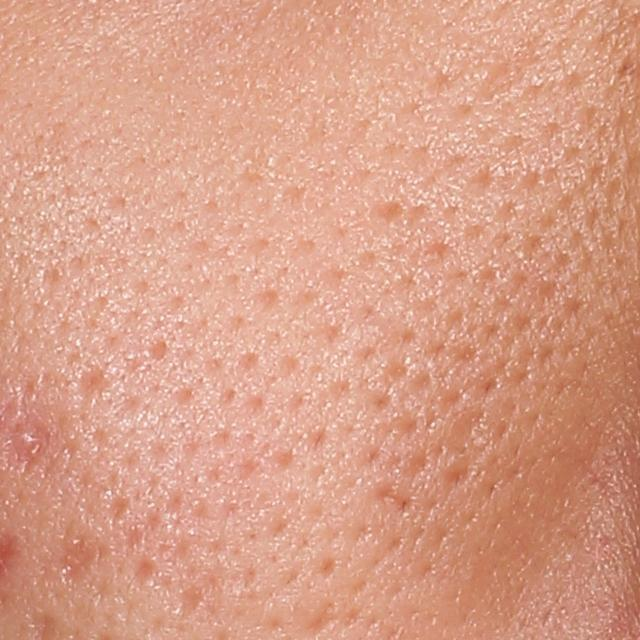atrophic_scar: (52, 524, 111, 589), (176, 571, 212, 627), (367, 482, 419, 520), (76, 360, 114, 402), (369, 193, 410, 224), (106, 488, 133, 526), (130, 559, 153, 587)
papule: (13, 424, 40, 462)
